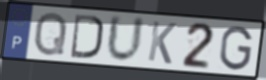2: (181, 21, 217, 71)
D: (69, 13, 104, 61)
G: (218, 25, 254, 72)
K: (146, 19, 179, 66)
Q: (32, 10, 69, 58)
U: (105, 13, 147, 65)
